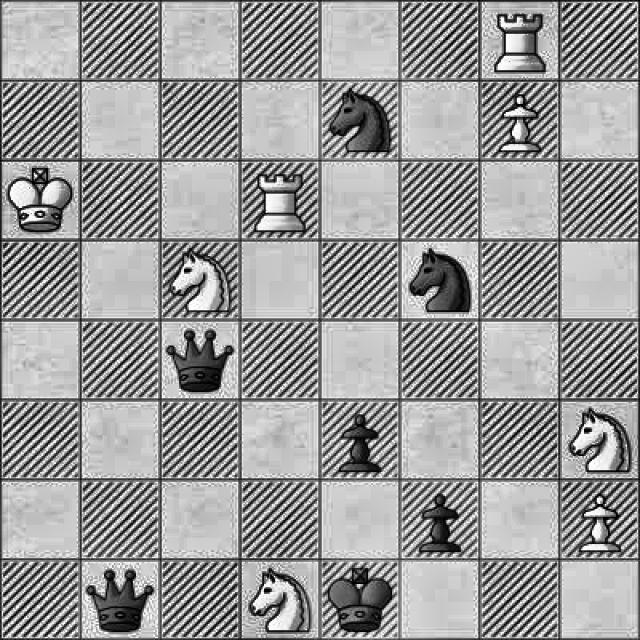Black Knight: (318, 88, 394, 157), (404, 250, 477, 318)
black king: (322, 564, 397, 638)
black pawn: (407, 485, 469, 557), (330, 409, 392, 478)
black queen: (159, 324, 236, 396), (85, 566, 156, 636)
white king: (4, 169, 76, 239)
white pawn: (494, 92, 546, 154), (578, 492, 627, 557)
white rook: (250, 167, 324, 230), (487, 5, 550, 76)
whiteknight: (561, 398, 637, 475), (161, 245, 240, 318), (245, 565, 312, 639)
